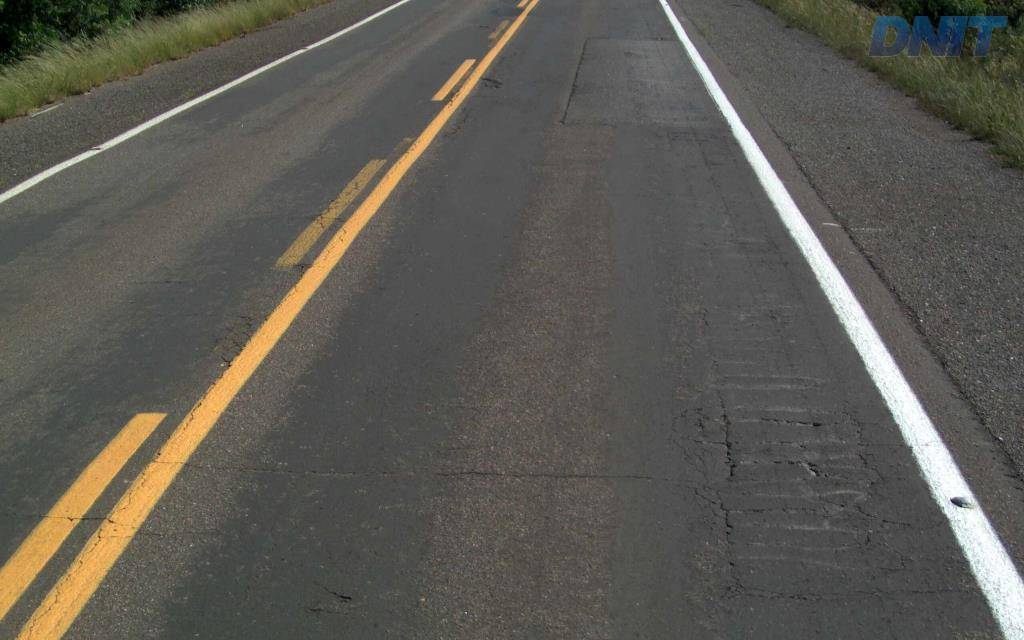crack: (718, 413, 737, 482)
